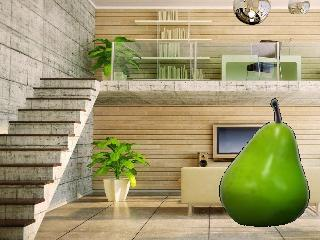pear: (215, 94, 314, 229)
